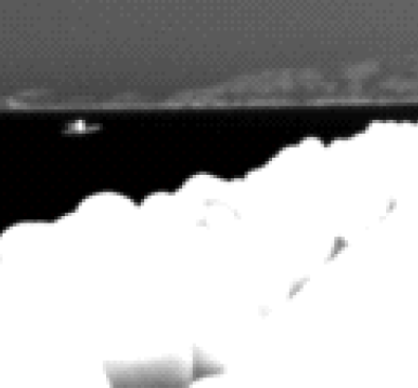Target: (66, 121, 99, 134)
